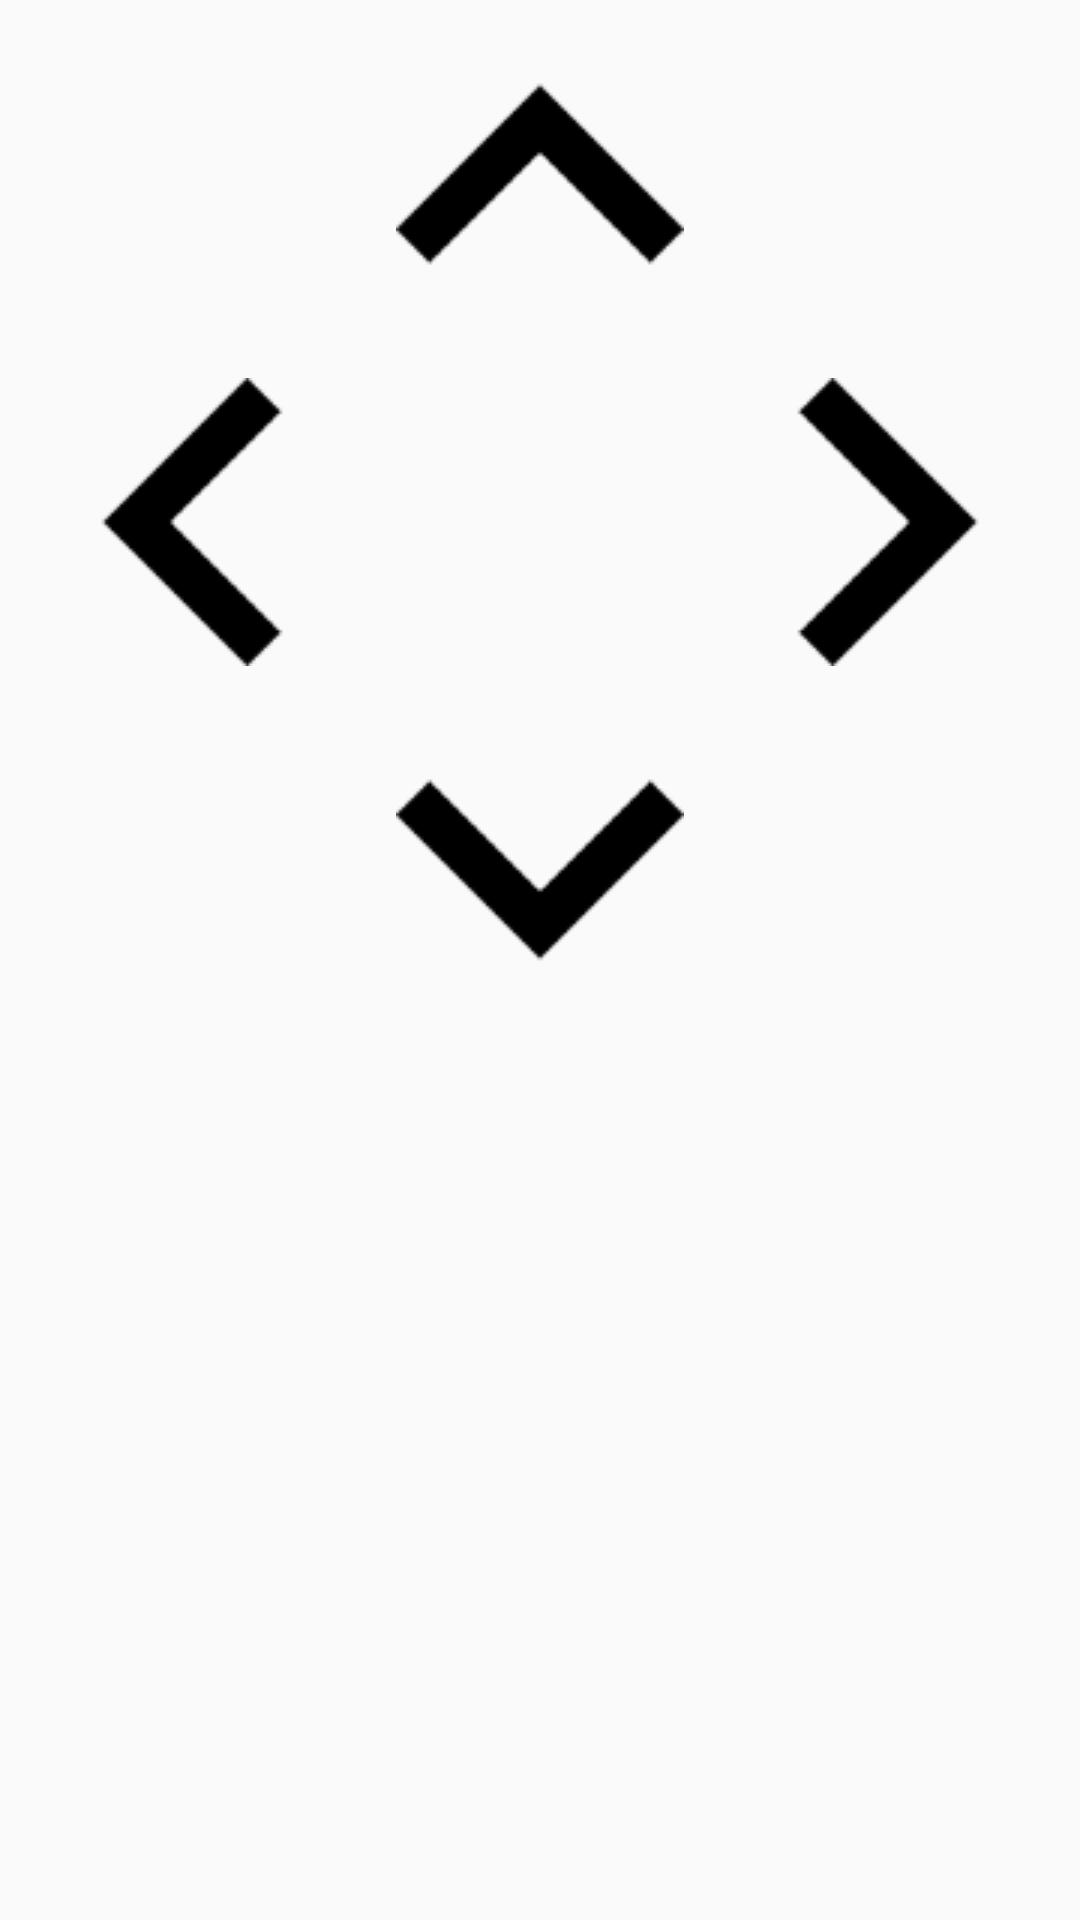

Named icons in this screenshot (1080px x 1920px) and their bounding boxes, bbox=[x1, y1, x2, y2]:
down: bbox=[396, 779, 684, 960]
left: bbox=[102, 378, 283, 666]
right: bbox=[797, 378, 978, 666]
